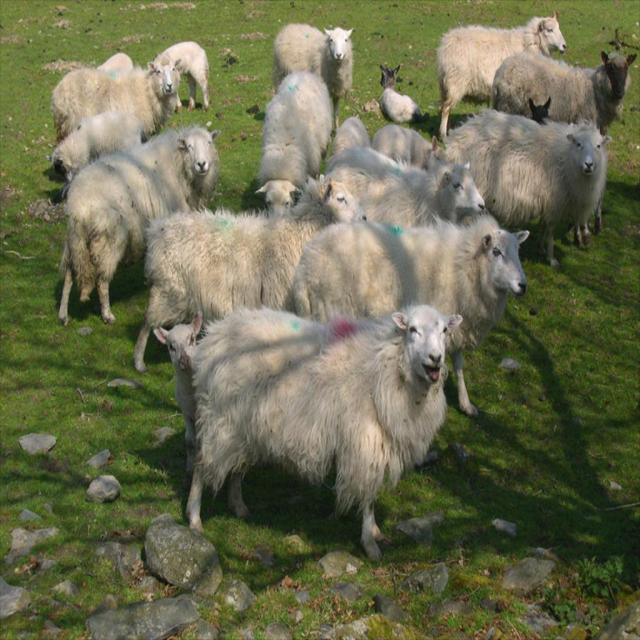Sheep: (50, 10, 637, 563)
